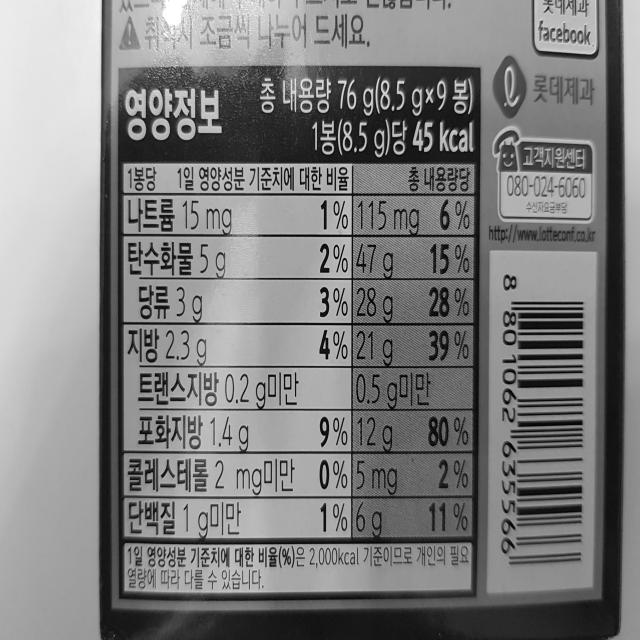Nutrition Label: (113, 55, 484, 618)
